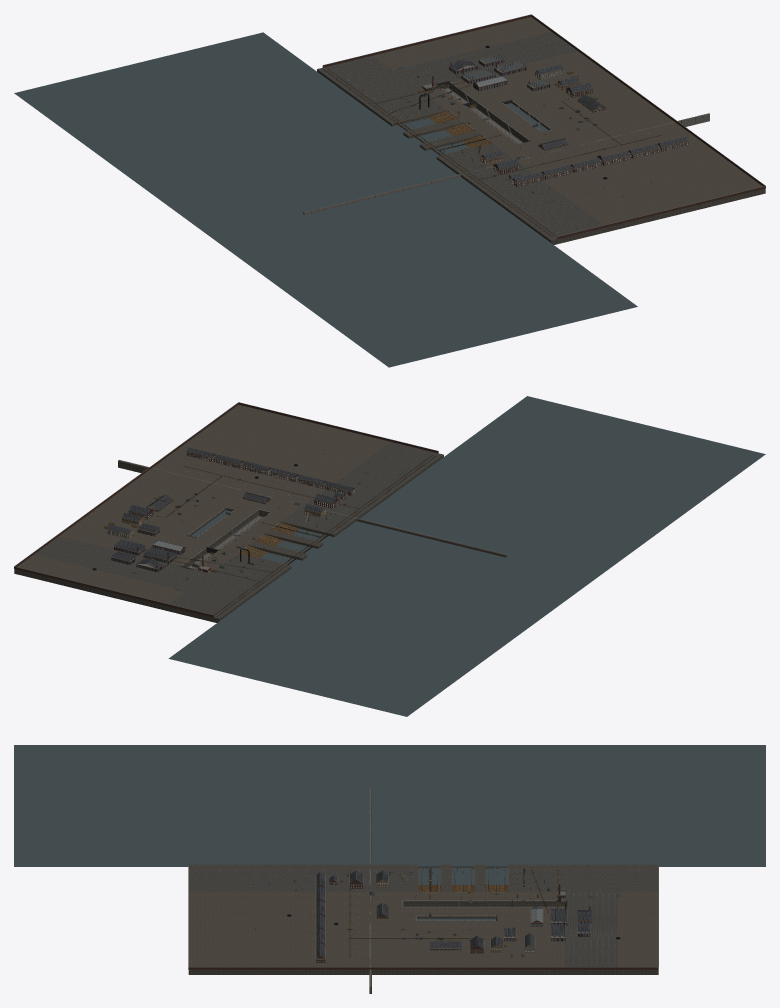
The model's file is port_b_full.glb.
The picture shows the model from 3 angles, top to bottom: view 1: azimuth 30°, elevation 25°; view 2: azimuth 150°, elevation 25°; view 3: azimuth 270°, elevation 25°; orthographic projection. The views are drawn at different scales.
Parts seen in each view (by area): view 1: B_ground.001, B_rail.001, B_princess_dock.001; view 2: B_ground.001, B_rail.001, B_princess_dock.001; view 3: B_ground.001, B_princess_dock.001, B_rail.001.
Boxes of the visible parts, x1,y1,x2,y2 form: B_ground.001: [14, 17, 765, 367]; B_rail.001: [322, 68, 661, 236]; B_princess_dock.001: [436, 81, 530, 144]; B_ground.001: [14, 396, 765, 716]; B_rail.001: [158, 455, 436, 616]; B_princess_dock.001: [180, 509, 271, 569]; B_ground.001: [14, 745, 765, 974]; B_princess_dock.001: [402, 900, 566, 907]; B_rail.001: [195, 866, 655, 958].
Bounding box in the file's own units: 860 × 36.55 × 1120.
37 materials, 23 textured.
